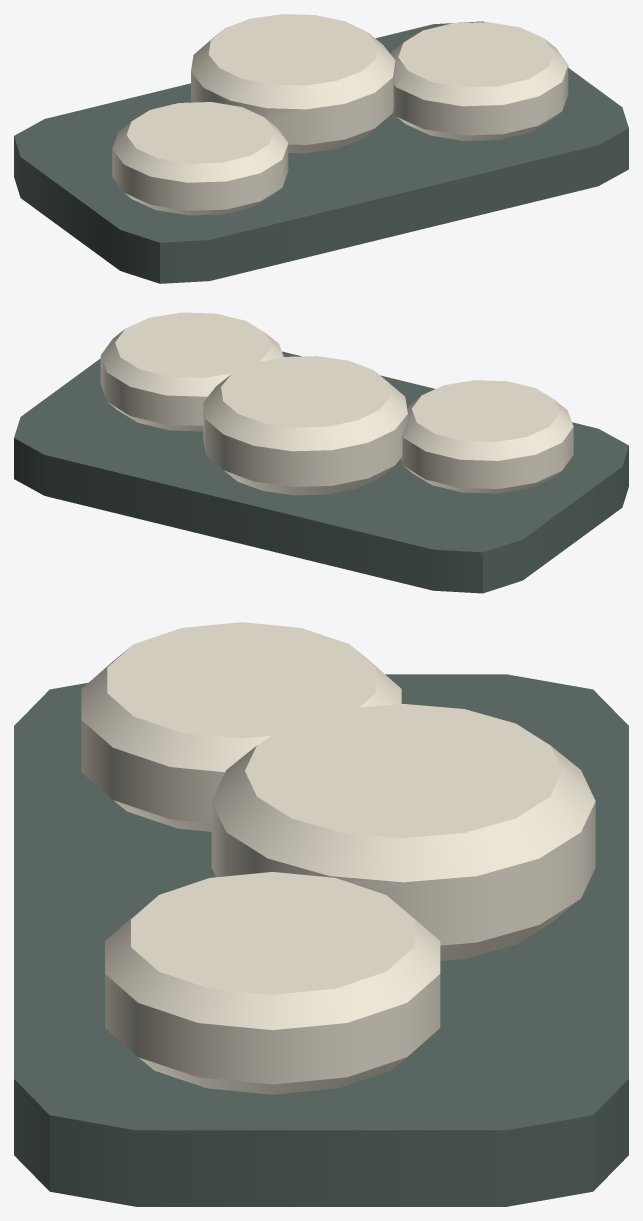
The model's file is stepping-stone-pad.glb.
3 renders of one model, top to bottom at view 1: azimuth 30°, elevation 25°; view 2: azimuth 150°, elevation 25°; view 3: azimuth 270°, elevation 25°, orthographic. The views are drawn at different scales.
Visible parts, largest first — view 1: stepping-stone-pad; view 2: stepping-stone-pad; view 3: stepping-stone-pad.
Boxes of the visible parts, <box> form: stepping-stone-pad: <box>14,14,628,283</box>; stepping-stone-pad: <box>14,312,628,593</box>; stepping-stone-pad: <box>14,622,628,1206</box>.
Size of the model in its own units: 4.86 by 1 by 2.77.
1 material, 1 textured.
